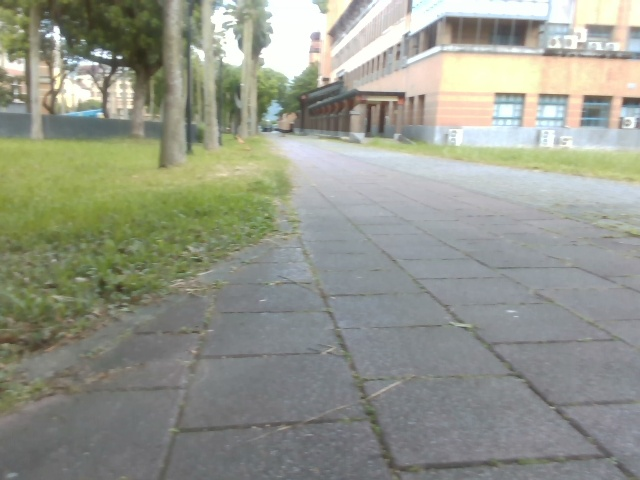grass: (0, 133, 293, 385), (0, 0, 317, 168), (347, 138, 639, 185)
road: (0, 133, 639, 479)
